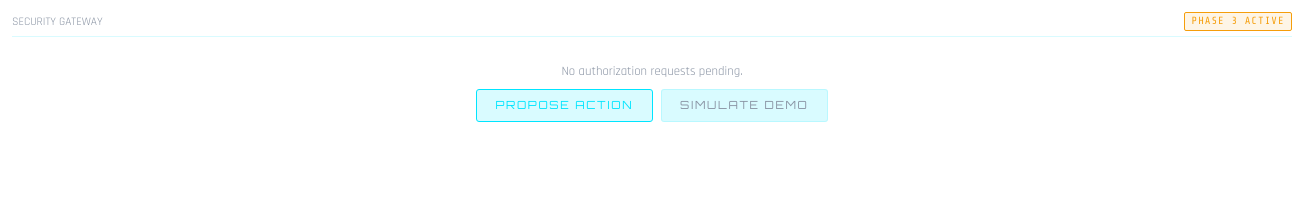
ApprovalPreviewPanel Component › rejects a request and triggers state cleanup callback
// Trigger demo
Click the button "Simulate Demo": [744, 105] box [661,89,828,122]
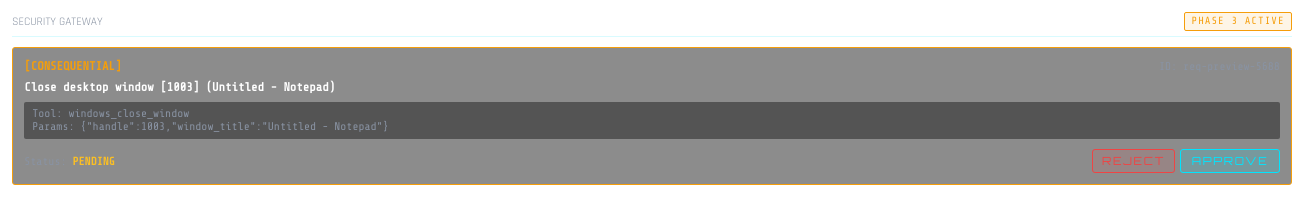
Click the button "REJECT": [1133, 161] box [1092,149,1175,173]
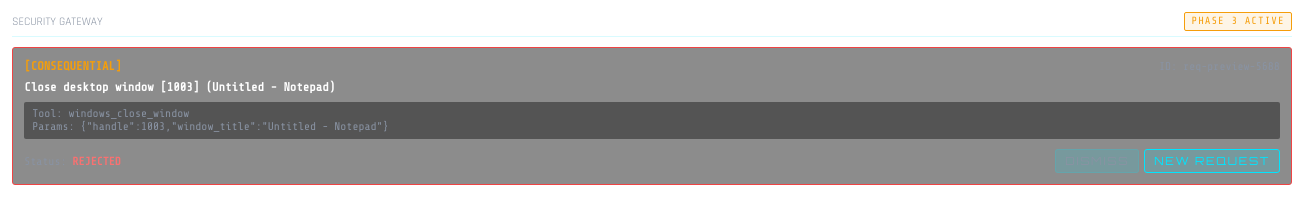
Expected: the text "rejected" is shown, [72,155,121,168]
